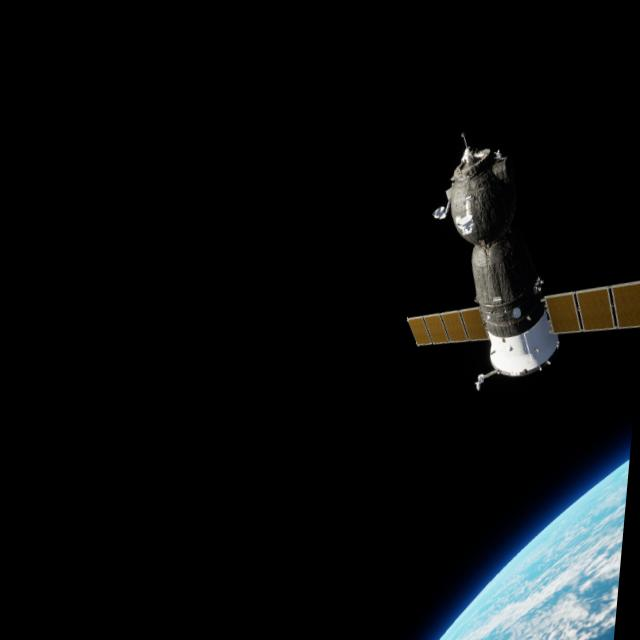Satellites revolving around earth: (398, 125, 640, 406)
